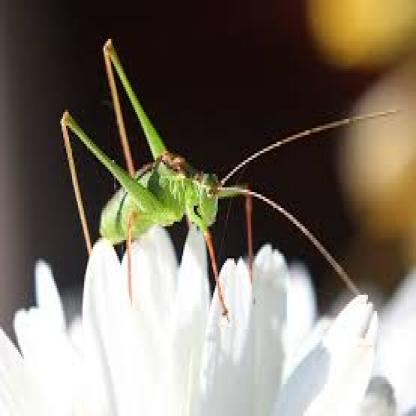grasshopper: (61, 33, 304, 273)
